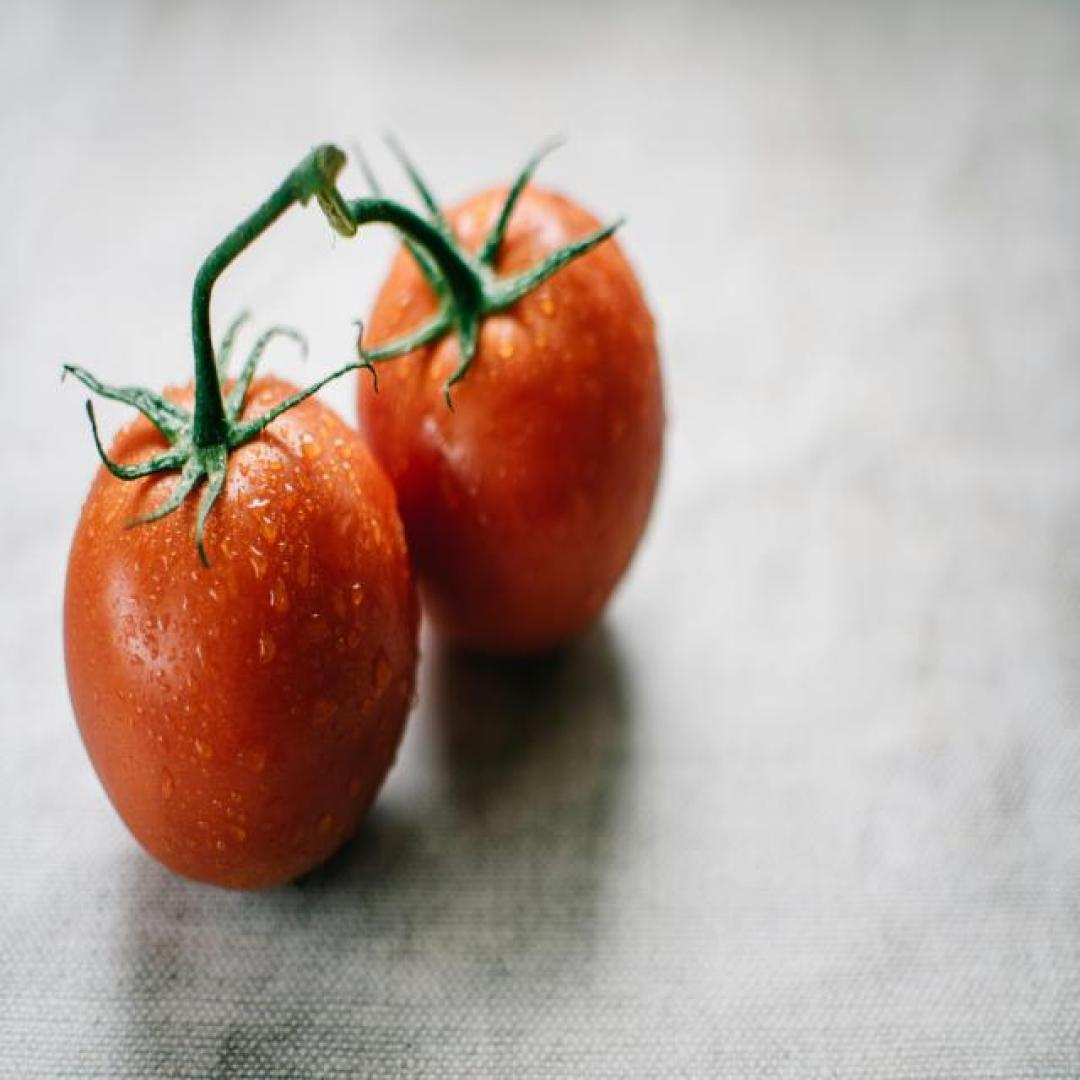matang: (62, 380, 422, 894), (354, 187, 665, 665)
